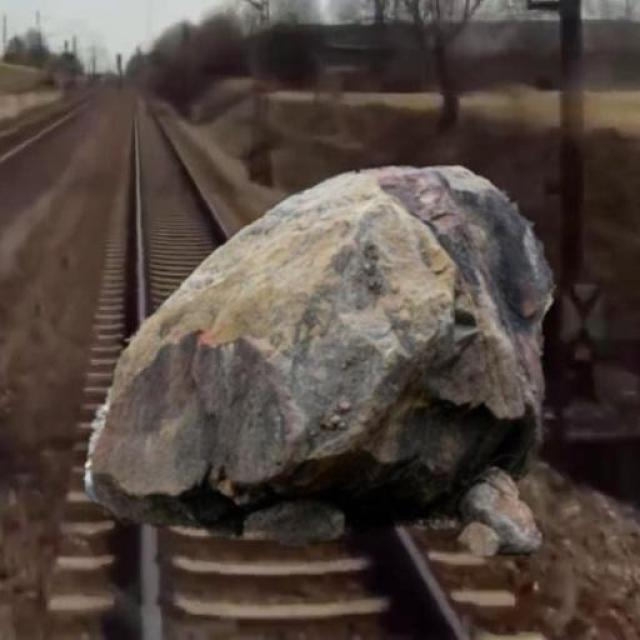Stone: (56, 156, 554, 563)
